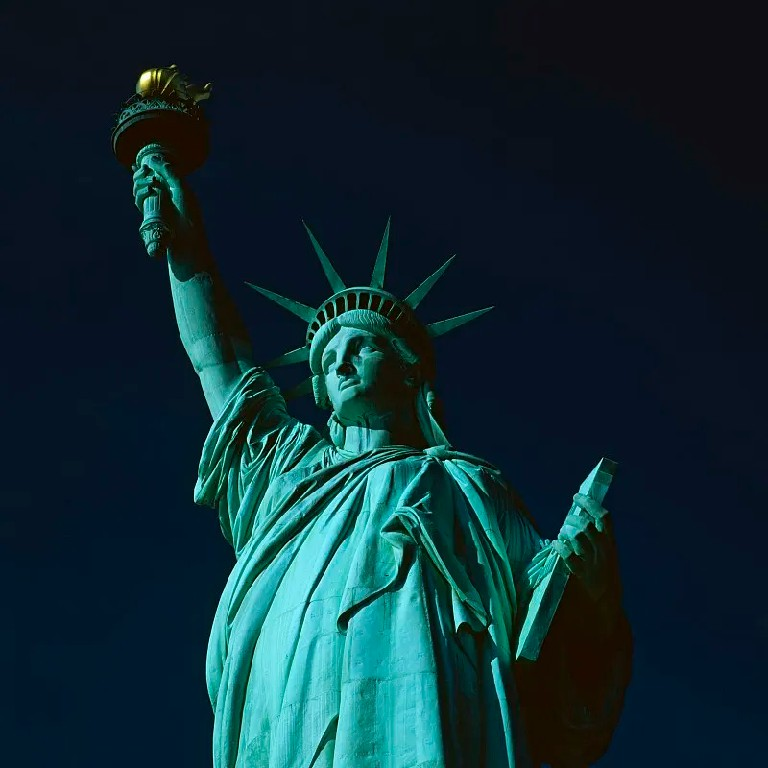SL: (111, 62, 634, 768)
